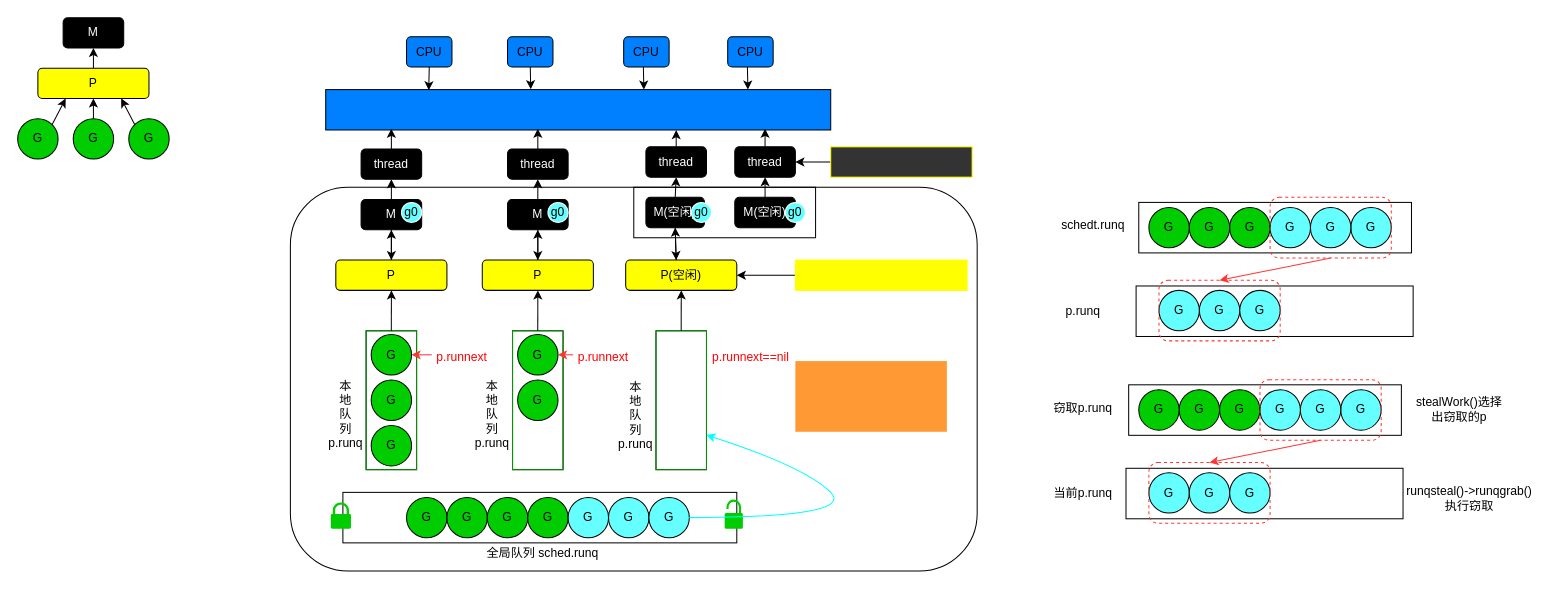
Image size: 1555x589. Some labels were removed from this diagram. The shapes that lost their labels are listed below. From the top down, each one's box as (x1, y1, x2, y2) in pixels, then its label:
(325, 89, 831, 130): OS调度器
(830, 146, 972, 177): 内核线程(kernel thread)
(794, 259, 967, 290): runtime.GOMAXPROCS(3)
(795, 361, 946, 431): Goroutine调度器
